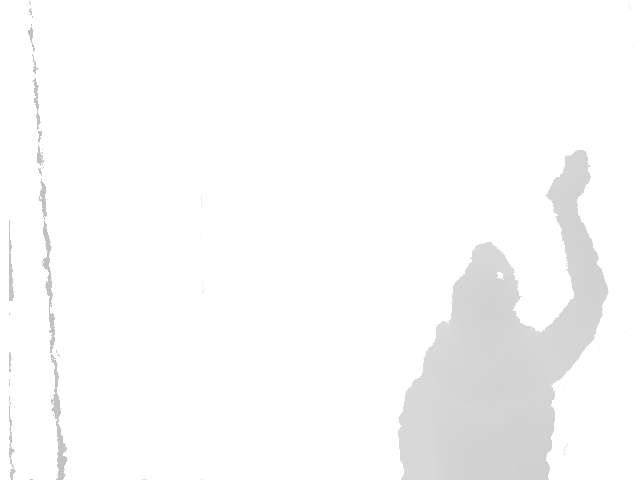hand: (545, 149, 594, 208)
head: (447, 242, 524, 337)
person: (398, 148, 610, 480)
